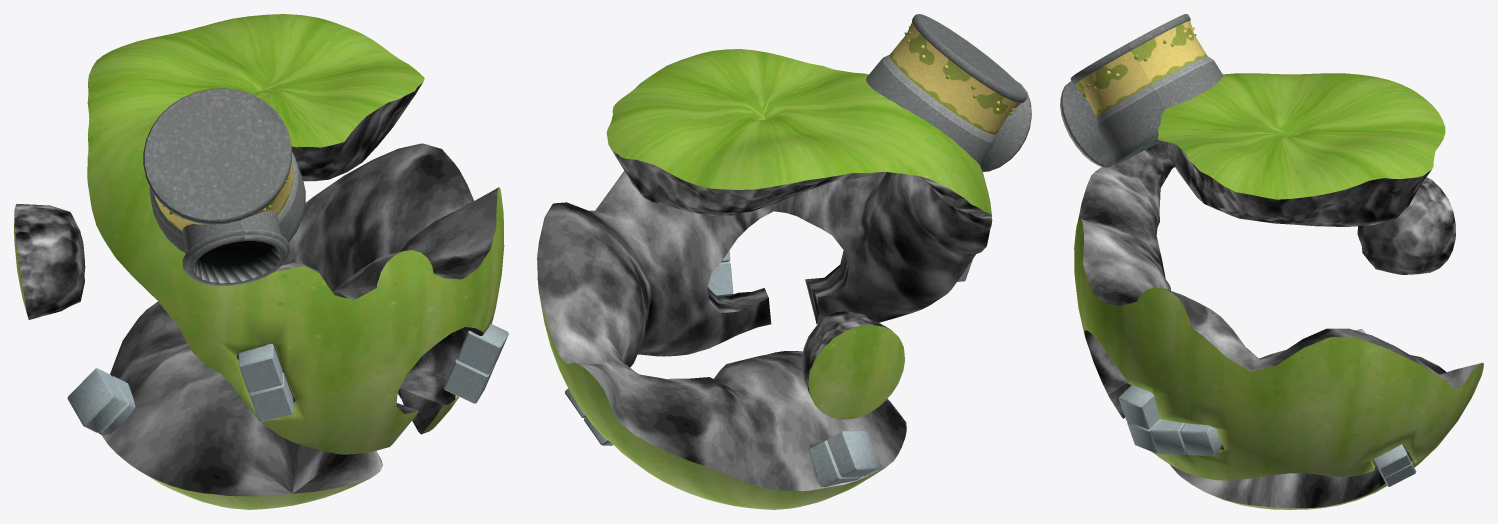
The model's file is fruitpeelplanet.dae.
The picture shows the model from 3 angles, left to right: view 1: azimuth 30°, elevation 25°; view 2: azimuth 150°, elevation 25°; view 3: azimuth 270°, elevation 25°; orthographic projection. The views are drawn at different scales.
Visible parts, largest first — view 1: n2b3, n3b2, n1b0, n0b1; view 2: n3b2, n2b3, n1b0, n0b1; view 3: n2b3, n3b2, n1b0, n0b1.
Boxes of the visible parts, bbox=[...] form: n2b3: bbox=[14, 14, 504, 509]; n3b2: bbox=[14, 83, 498, 496]; n1b0: bbox=[143, 88, 305, 286]; n0b1: bbox=[67, 324, 508, 435]; n3b2: bbox=[537, 150, 992, 491]; n2b3: bbox=[538, 49, 991, 509]; n1b0: bbox=[866, 14, 1031, 171]; n0b1: bbox=[565, 250, 972, 487]; n2b3: bbox=[1074, 73, 1483, 509]; n3b2: bbox=[1076, 140, 1481, 508]; n1b0: bbox=[1060, 14, 1222, 167]; n0b1: bbox=[1118, 329, 1416, 486].
Size of the model in its own units: 2561 by 2837 by 2597.
